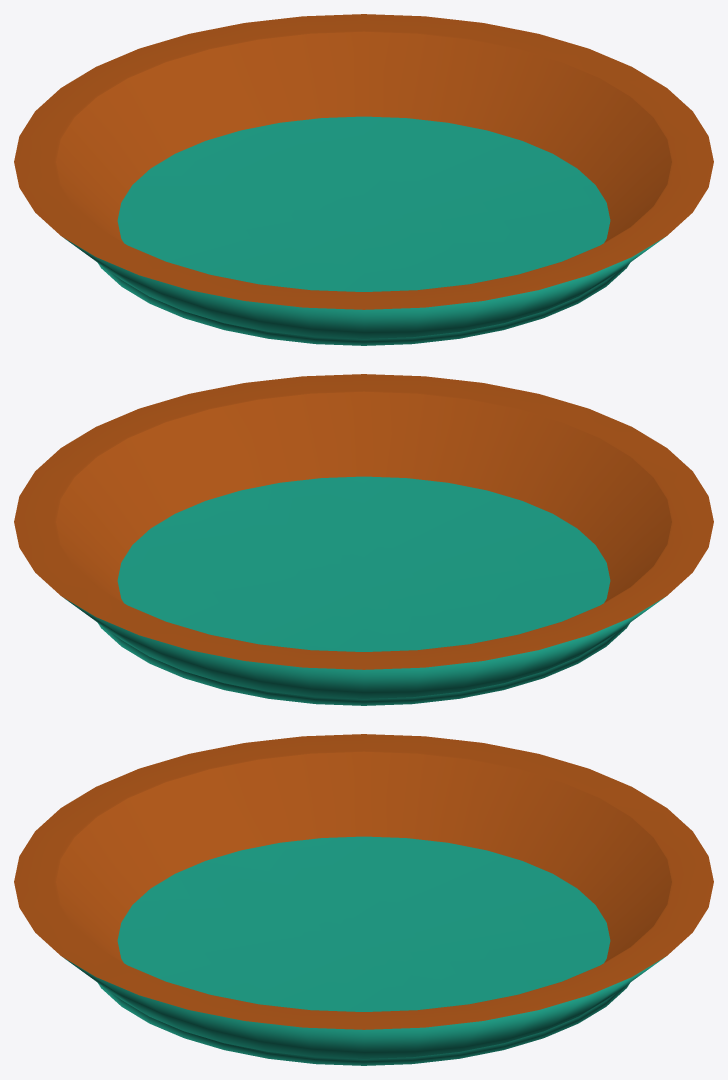
File: SM_Dishes_8.fbx
3 renders of one model, top to bottom at view 1: azimuth 30°, elevation 25°; view 2: azimuth 150°, elevation 25°; view 3: azimuth 270°, elevation 25°, orthographic.
Parts seen in each view (by area): view 1: SM_Dishes_8; view 2: SM_Dishes_8; view 3: SM_Dishes_8.
Part boxes in pixels (x1,y1,x2,y2): SM_Dishes_8: [14, 14, 713, 345]; SM_Dishes_8: [14, 374, 713, 705]; SM_Dishes_8: [14, 734, 713, 1065].
Bounding box in the file's own units: 16.7 × 16.7 × 1.74.
1 material, 1 textured.
